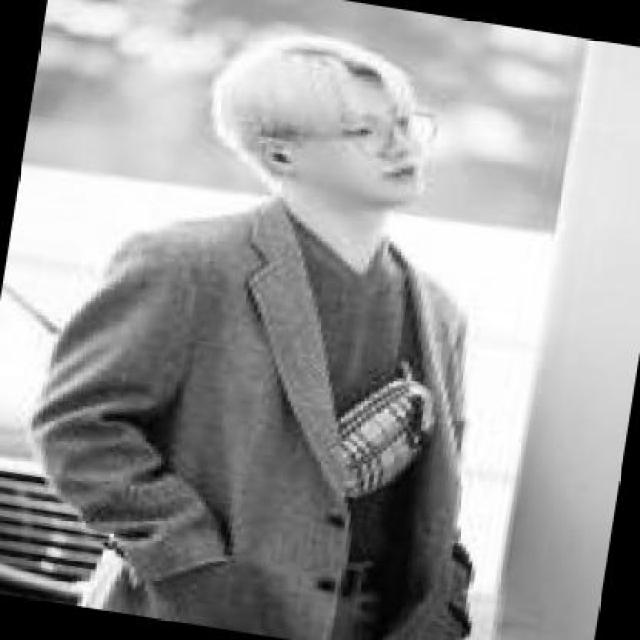earphone: (264, 141, 314, 193)
